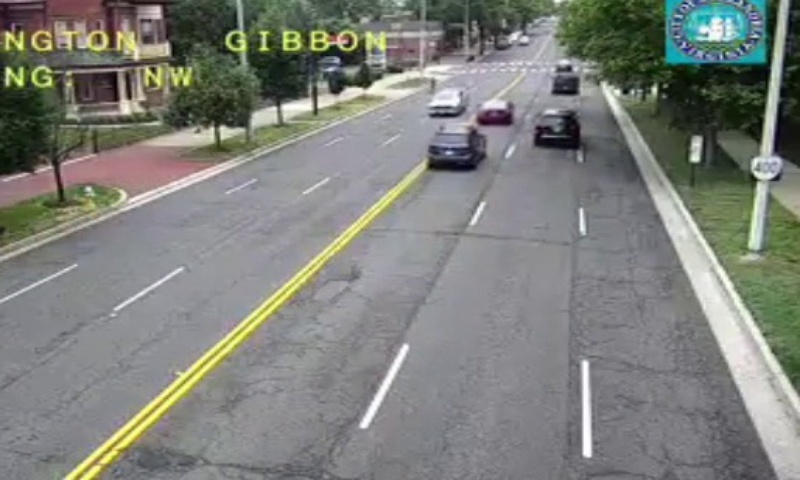car: (428, 124, 484, 165), (532, 111, 580, 144), (477, 100, 510, 124), (552, 74, 580, 96)
